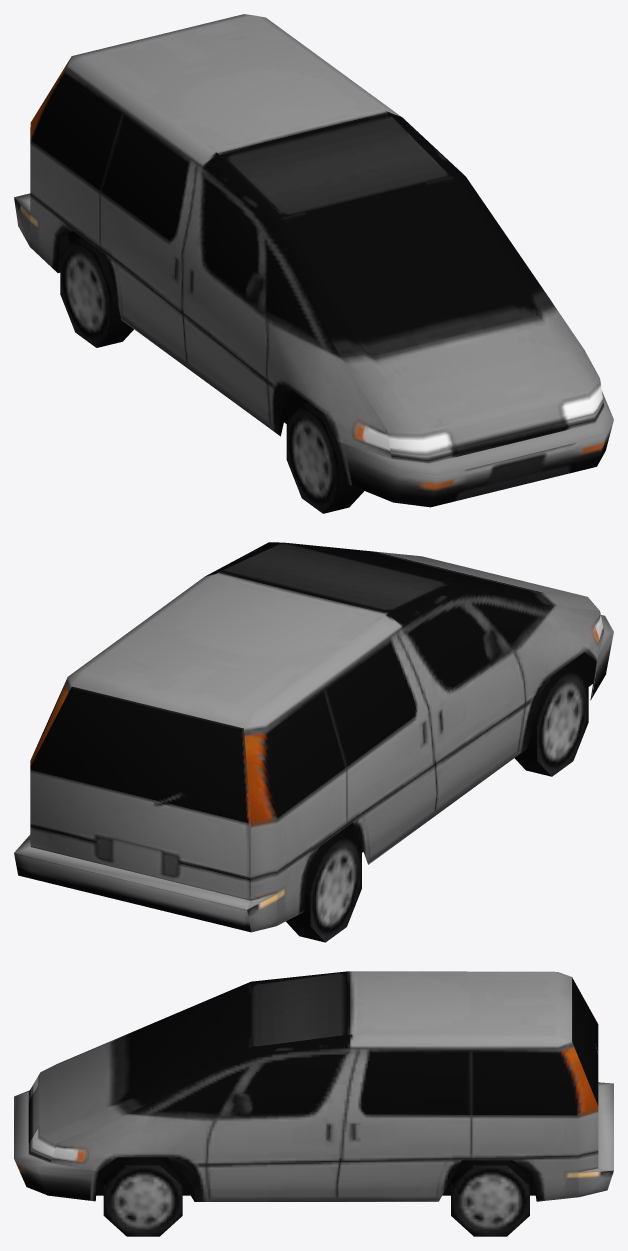
File: Car_ChevyLumina.fbx
3 renders of one model, top to bottom at view 1: azimuth 30°, elevation 25°; view 2: azimuth 150°, elevation 25°; view 3: azimuth 270°, elevation 25°, orthographic. The views are drawn at different scales.
Visible parts, largest first — view 1: Car_ChevyLumina; view 2: Car_ChevyLumina; view 3: Car_ChevyLumina.
Boxes of the visible parts, x1,y1,x2,y2 form: Car_ChevyLumina: [14, 14, 613, 513]; Car_ChevyLumina: [14, 542, 613, 942]; Car_ChevyLumina: [14, 971, 613, 1236].
Size of the model in its own units: 1.9 by 1.7 by 4.95.
